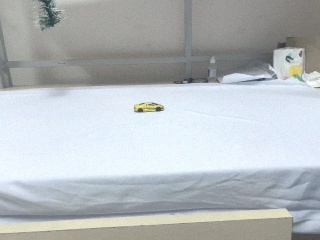box: (273, 47, 305, 79)
toy_car: (134, 102, 164, 113)
